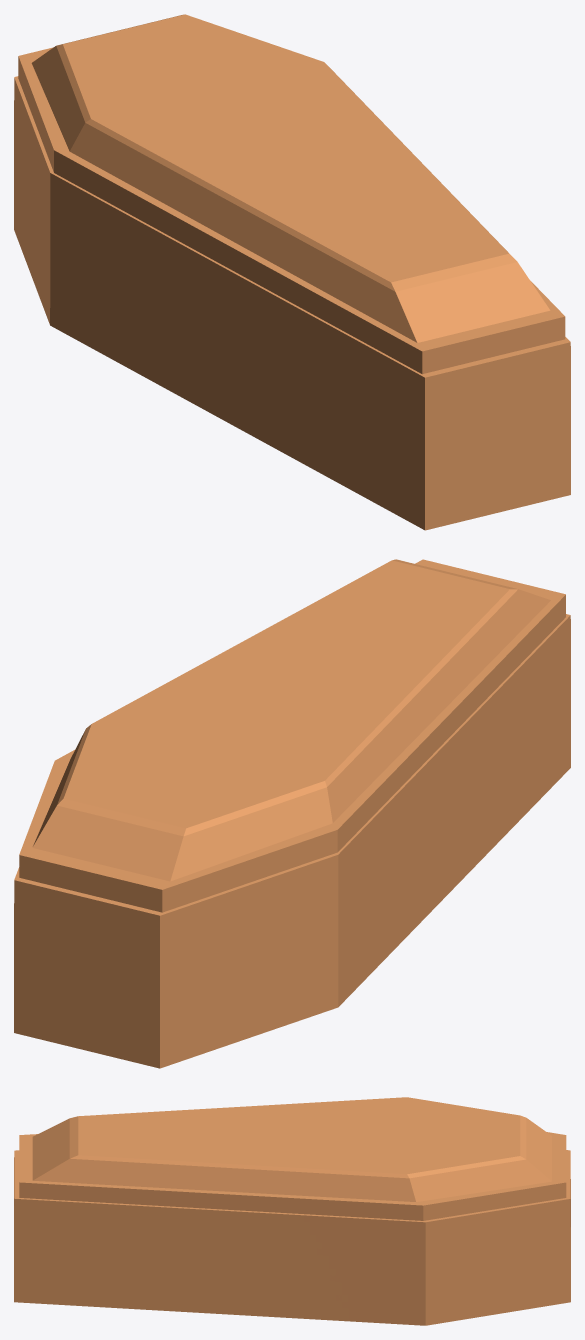
Rendered from coffin.fbx.
The picture shows the model from 3 angles, top to bottom: view 1: azimuth 30°, elevation 25°; view 2: azimuth 150°, elevation 25°; view 3: azimuth 270°, elevation 25°; orthographic projection. The views are drawn at different scales.
Parts seen in each view (by area): view 1: kapak, alt, alt.001; view 2: kapak, alt, alt.001; view 3: alt, kapak, alt.001.
Part boxes in pixels (x1,y1,x2,y2): kapak: (18,14,565,374); alt: (14,78,570,530); alt.001: (14,76,570,377); kapak: (19,559,565,912); alt: (14,615,570,1068); alt.001: (14,614,570,915); alt: (14,1157,570,1325); kapak: (19,1097,566,1220); alt.001: (14,1150,570,1222).
Bounding box in the file's own units: 394 × 275 × 974.
